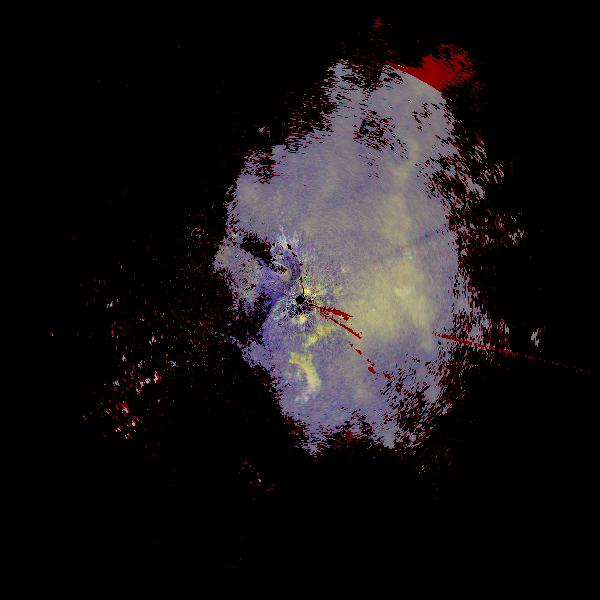roost: (265, 346, 328, 409)
